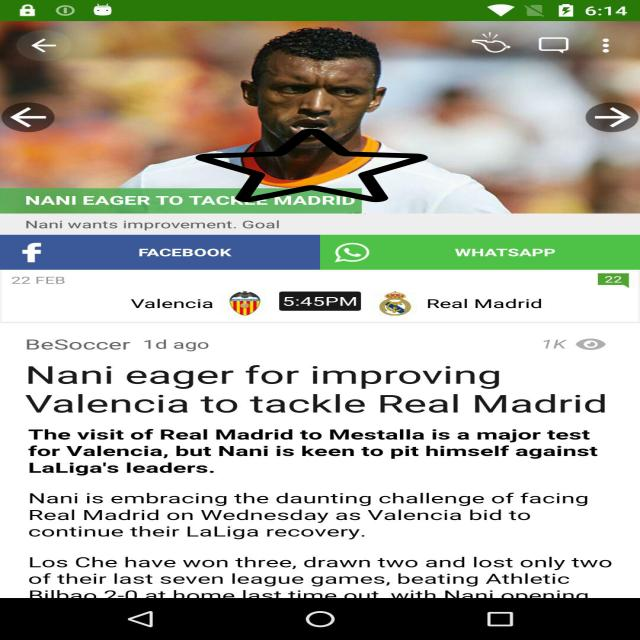forced continuity: (195, 127, 428, 204)
